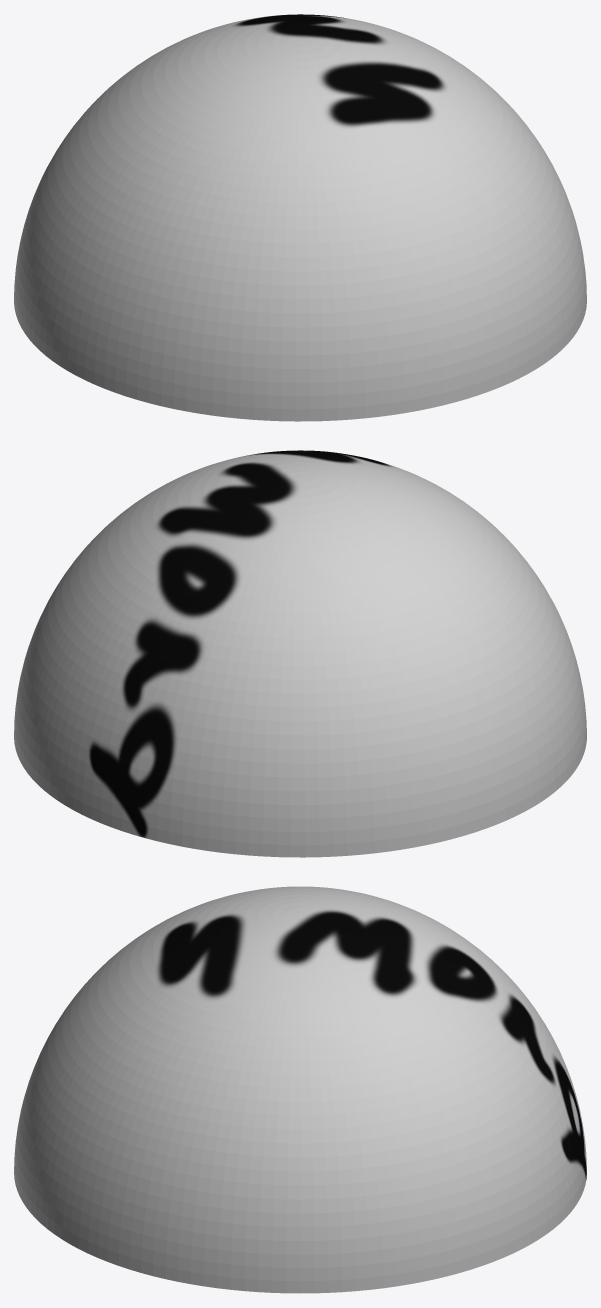
File: domeMockup.fbx
The picture shows the model from 3 angles, top to bottom: view 1: azimuth 30°, elevation 25°; view 2: azimuth 150°, elevation 25°; view 3: azimuth 270°, elevation 25°; orthographic projection.
Parts seen in each view (by area): view 1: Sphere; view 2: Sphere; view 3: Sphere.
Boxes of the visible parts, <box> form: Sphere: <box>14,14,586,421</box>; Sphere: <box>14,450,586,857</box>; Sphere: <box>14,886,586,1293</box>.
Size of the model in its own units: 220 by 110 by 220.
1 material, 1 textured.
